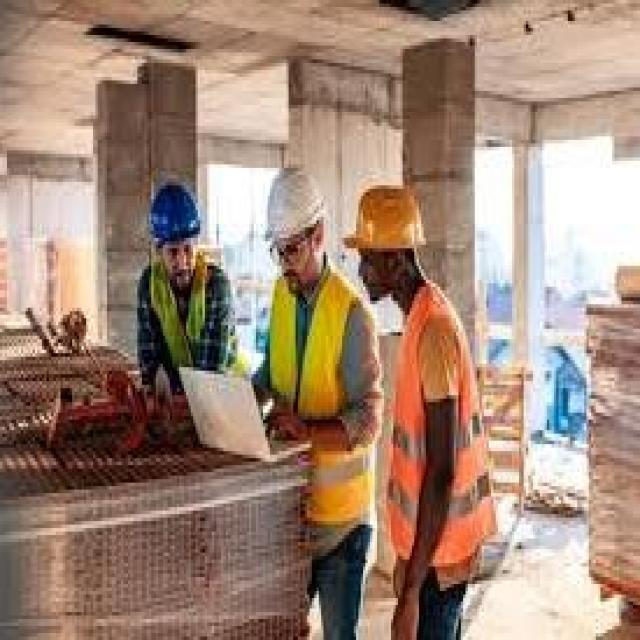Reflective-Jacket: (375, 276, 493, 584), (258, 262, 384, 521), (128, 255, 247, 402)
Safety-Helmet: (344, 161, 436, 273), (256, 157, 333, 252), (137, 172, 212, 256)
